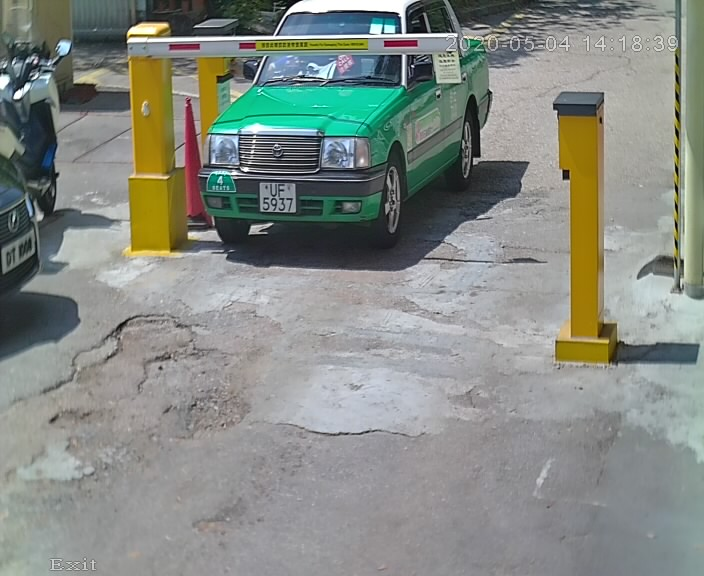taxi: (196, 2, 510, 275)
taxi_mark: (202, 162, 248, 201)
